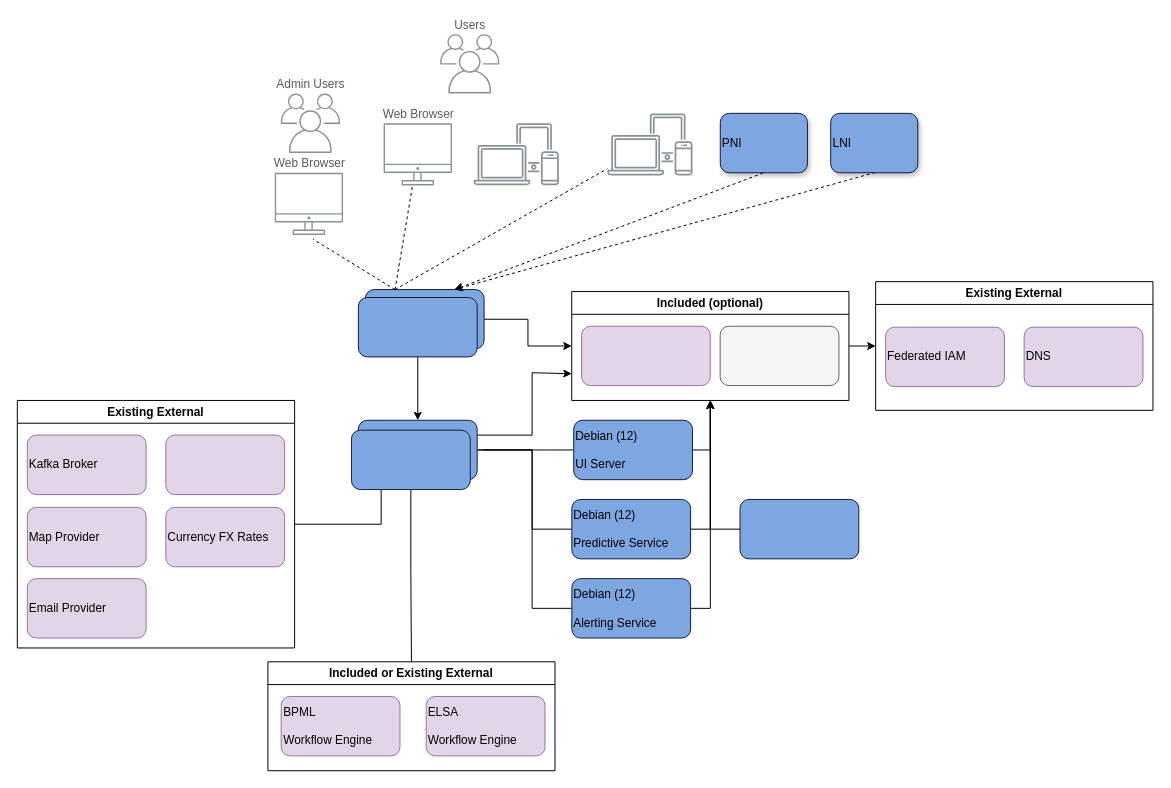
Image size: 1171x788. Some labels were removed from this diagram. Each missing label, with the centre of its shape:
CVEs: (225,464)
Debian (12) API Gateway: (417,327)
Debian (12) API Server: (410,459)
Debian (12) Fetch Service: (799,528)
Debian (12) Identity and Access Management (IAM): (779,355)
DNS (Service Discovery): (645,355)
Mobile Apps/Devices: (515,154)
Third-Party Apps: (649,144)
